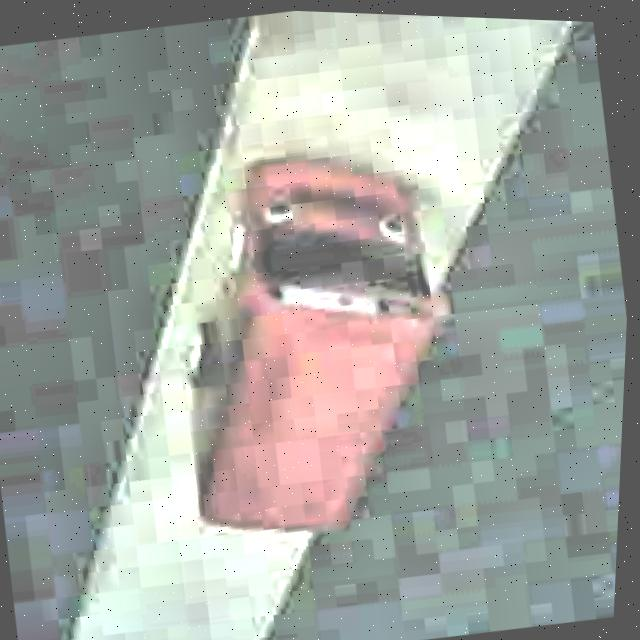bus: (143, 130, 490, 558)
